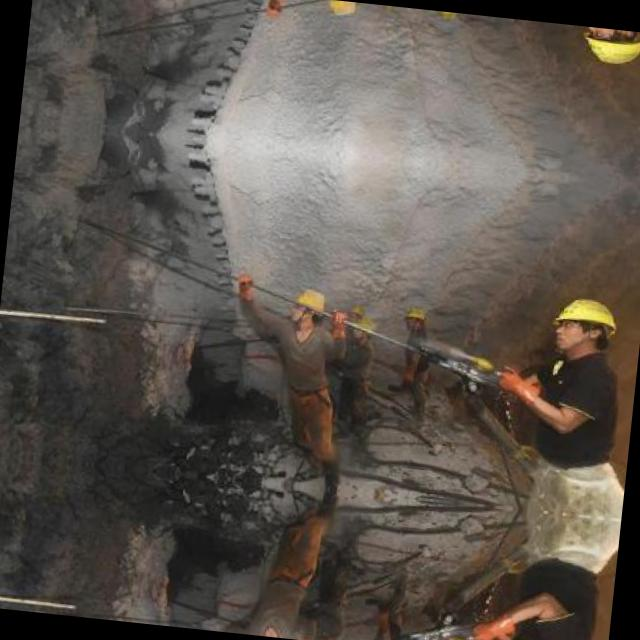helmet: (538, 288, 624, 361), (568, 25, 640, 75), (288, 284, 328, 332), (398, 302, 428, 336), (320, 0, 359, 21), (350, 314, 378, 340), (342, 301, 364, 324), (430, 10, 460, 25), (374, 4, 396, 14)
